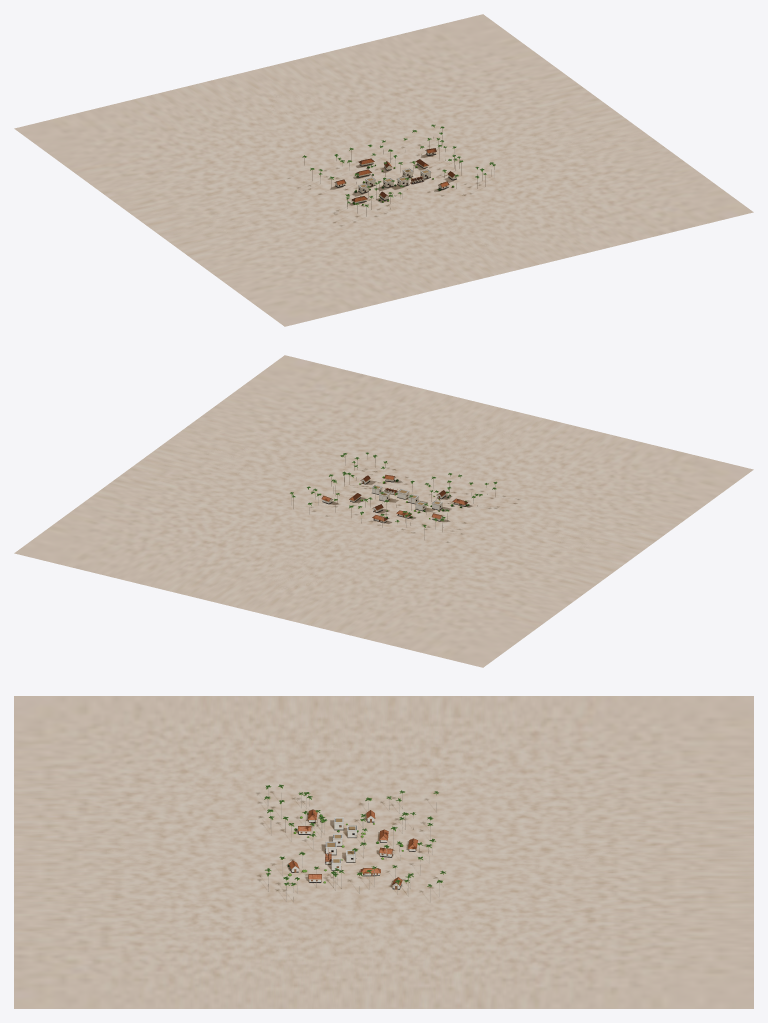
File: village.glb
3 renders of one model, top to bottom at view 1: azimuth 30°, elevation 25°; view 2: azimuth 150°, elevation 25°; view 3: azimuth 270°, elevation 25°, orthographic. The views are drawn at different scales.
Visible parts, largest first — view 1: Web_ground, Web_buildings, Web_fronds, Web_green; view 2: Web_ground, Web_buildings, Web_fronds, Web_green; view 3: Web_ground, Web_buildings, Web_fronds, Web_green, Web_roofs.
Part boxes in pixels (bbox=[...]): Web_ground: bbox=[14, 14, 753, 326]; Web_buildings: bbox=[335, 152, 456, 203]; Web_fronds: bbox=[302, 124, 495, 207]; Web_green: bbox=[304, 128, 494, 216]; Web_ground: bbox=[14, 355, 753, 667]; Web_buildings: bbox=[322, 478, 466, 522]; Web_fronds: bbox=[290, 452, 497, 527]; Web_green: bbox=[291, 454, 495, 539]; Web_ground: bbox=[14, 696, 753, 1008]; Web_buildings: bbox=[289, 817, 415, 889]; Web_fronds: bbox=[264, 784, 445, 886]; Web_green: bbox=[267, 787, 443, 902]; Web_roofs: bbox=[288, 809, 417, 885].
Size of the model in its own units: 560 by 17.9 by 560.
15 materials, 15 textured.
